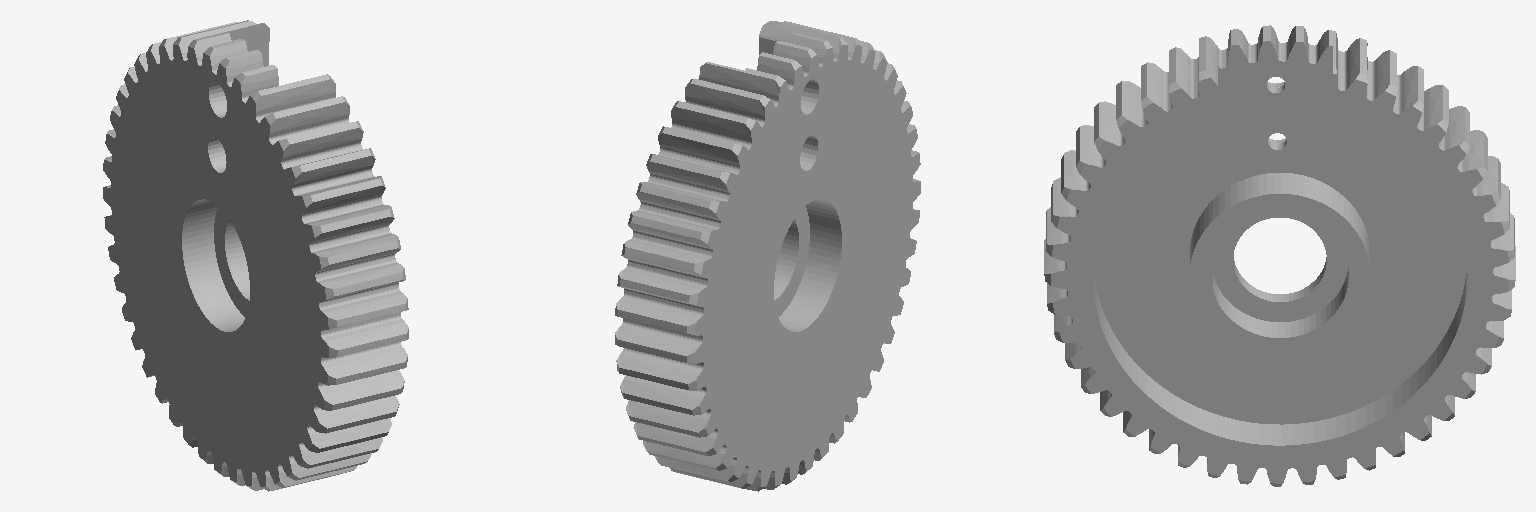
URDF robot description (root):
<?xml version='1.0' encoding='utf-8'?>
<robot name="root">
  <link name="link_001">
    <visual>
      <origin xyz="0 0 0" rpy="0 0 0" />
      <geometry>
        <mesh filename="d80173ada16f52f7772b26bcab3ea8c433c2ac1d144635735b2006cbce597b38_scale_000.stl" scale="1.0000E+00 1.0000E+00 1.0000E+00" />
      </geometry>
      <material name="">
        <color rgba="7.50E-01 7.50E-01 7.50E-01 1" />
      </material>
    </visual>
    <collision>
      <origin xyz="0 0 0" rpy="0 0 0" />
      <geometry>
        <mesh filename="d80173ada16f52f7772b26bcab3ea8c433c2ac1d144635735b2006cbce597b38_scale_000.stl" scale="1.0000E+00 1.0000E+00 1.0000E+00" />
      </geometry>
    </collision>
  </link>
</robot>

--- Render facts (derived) ---
The picture shows the robot from 3 angles, left to right: view 1: azimuth 30°, elevation 25°; view 2: azimuth 150°, elevation 25°; view 3: azimuth 270°, elevation 25°; orthographic projection.
Model root with 1 links and 0 joints (none), rooted at link_001, posed all joints at 0.
Visible links, largest first — view 1: link_001; view 2: link_001; view 3: link_001.
Boxes of the visible links, <box> form: link_001: <box>103,20,408,491</box>; link_001: <box>615,21,920,491</box>; link_001: <box>1044,25,1515,486</box>.
Size in the robot's own frame: 0.0238 by 0.12 by 0.12 metres.
1 mesh visuals loaded from 1 distinct referenced files (1 binary STL).
